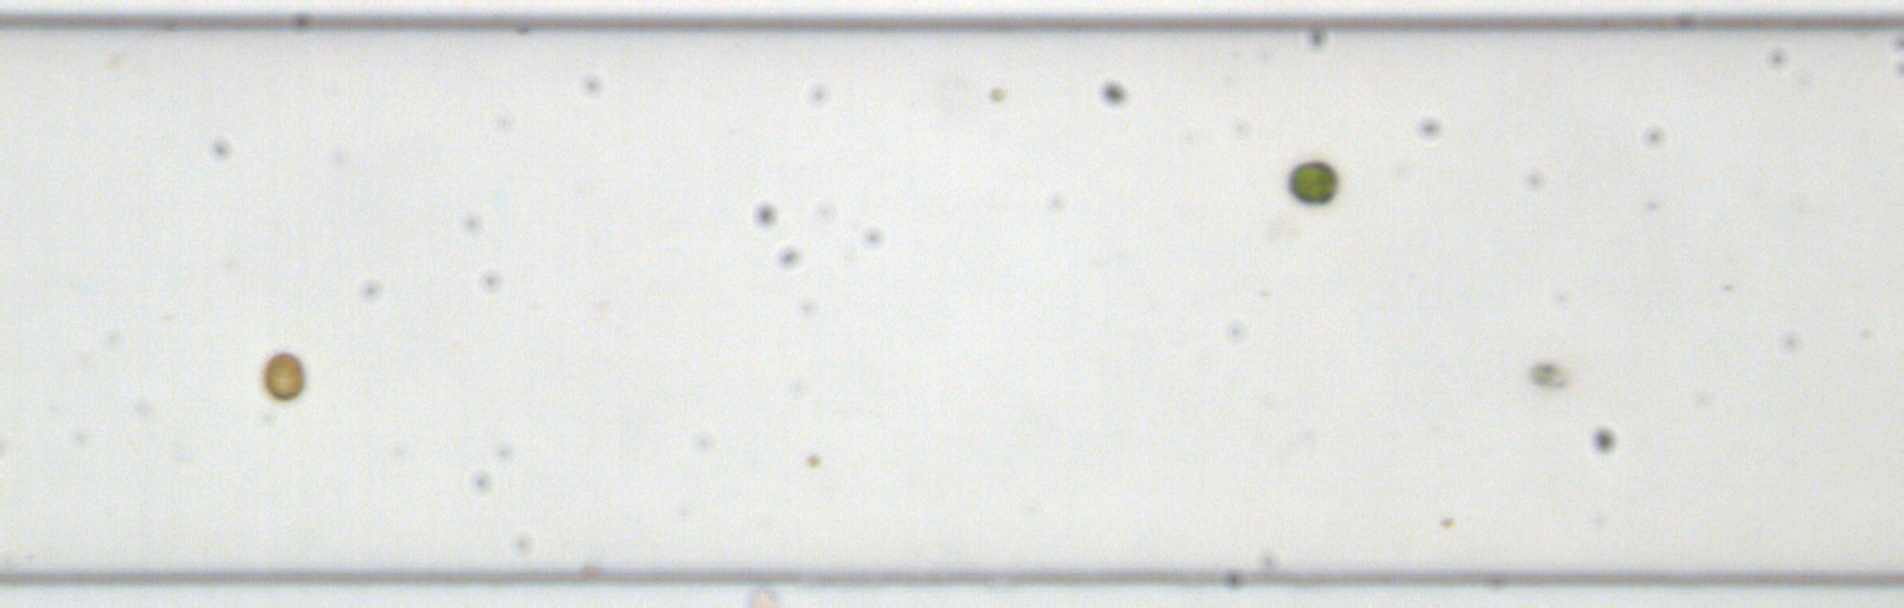Chlorella: (986, 84, 1005, 104), (804, 451, 821, 467), (1438, 513, 1456, 528)
Dunaliella salina: (1526, 360, 1570, 390)
Effrenium: (259, 351, 307, 403)
Platymonas: (1283, 157, 1342, 208)
